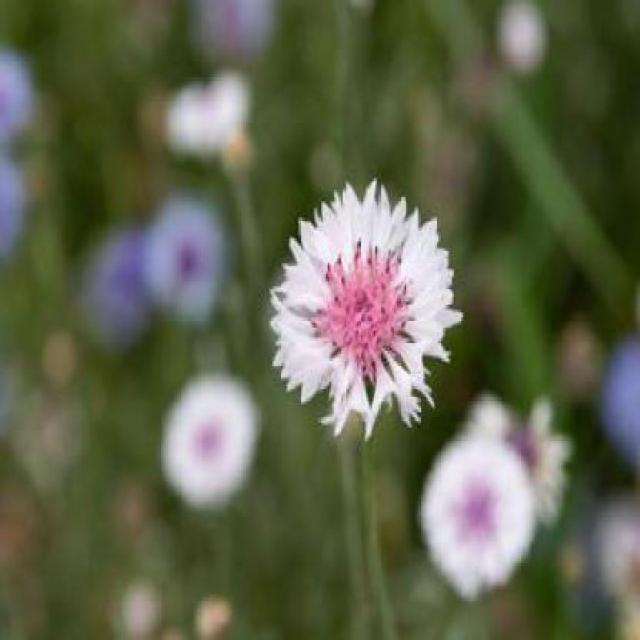Flower: (269, 177, 465, 446)
